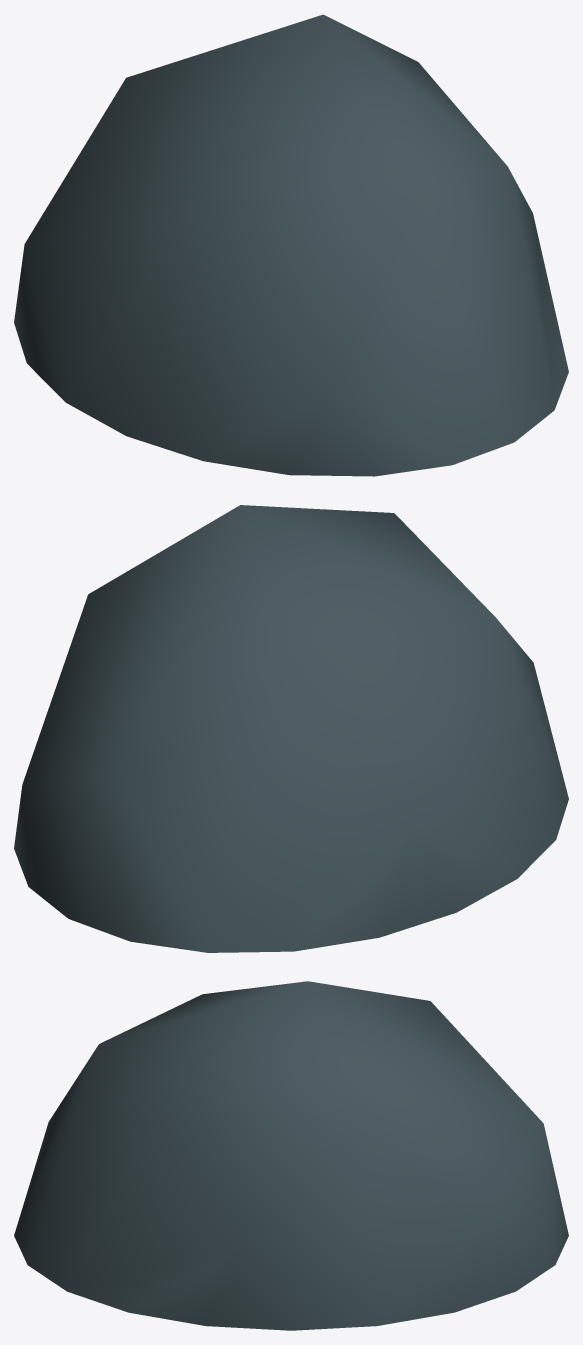
The model's file is Pebble.fbx.
The picture shows the model from 3 angles, top to bottom: view 1: azimuth 30°, elevation 25°; view 2: azimuth 150°, elevation 25°; view 3: azimuth 270°, elevation 25°; orthographic projection. The views are drawn at different scales.
Parts seen in each view (by area): view 1: Pebble; view 2: Pebble; view 3: Pebble.
Part boxes in pixels (bbox=[...]): Pebble: bbox=[14, 14, 568, 476]; Pebble: bbox=[14, 505, 568, 952]; Pebble: bbox=[14, 981, 568, 1330].
Size of the model in its own units: 1.01 by 0.6773 by 1.25.
